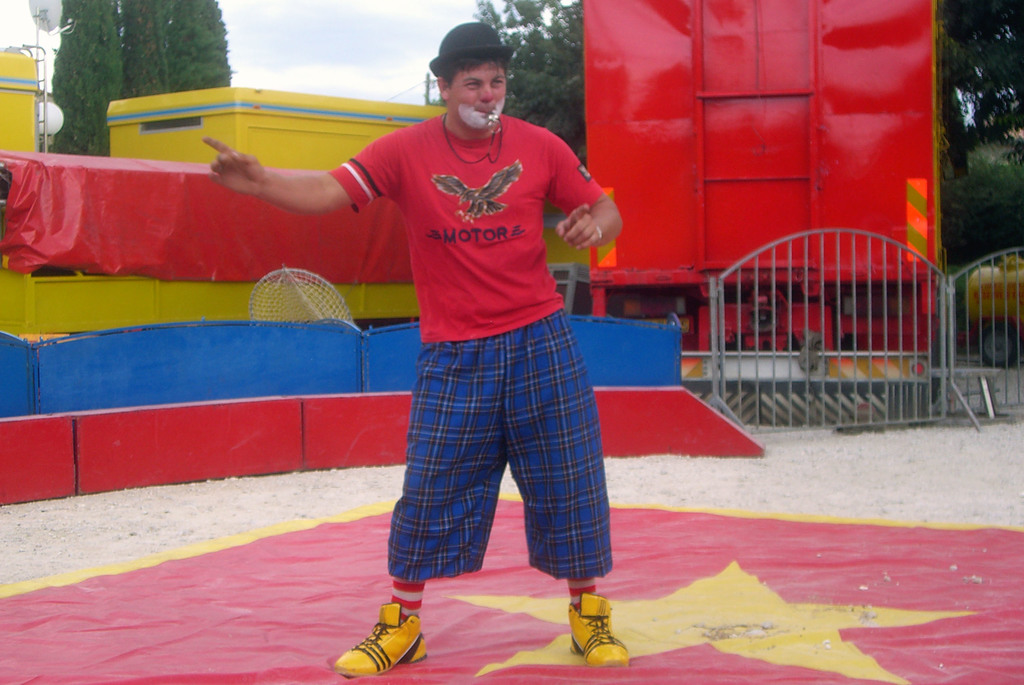Person: (200, 21, 631, 677)
